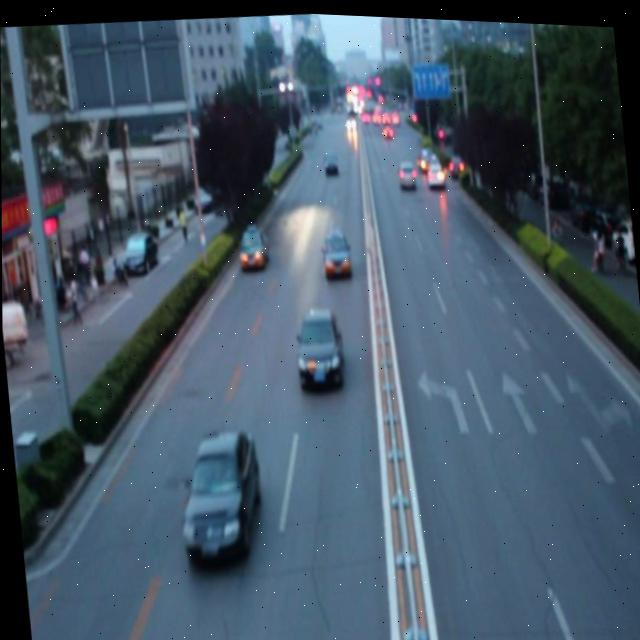car: (171, 420, 267, 563), (290, 300, 346, 387), (318, 222, 352, 276), (235, 220, 269, 270)
